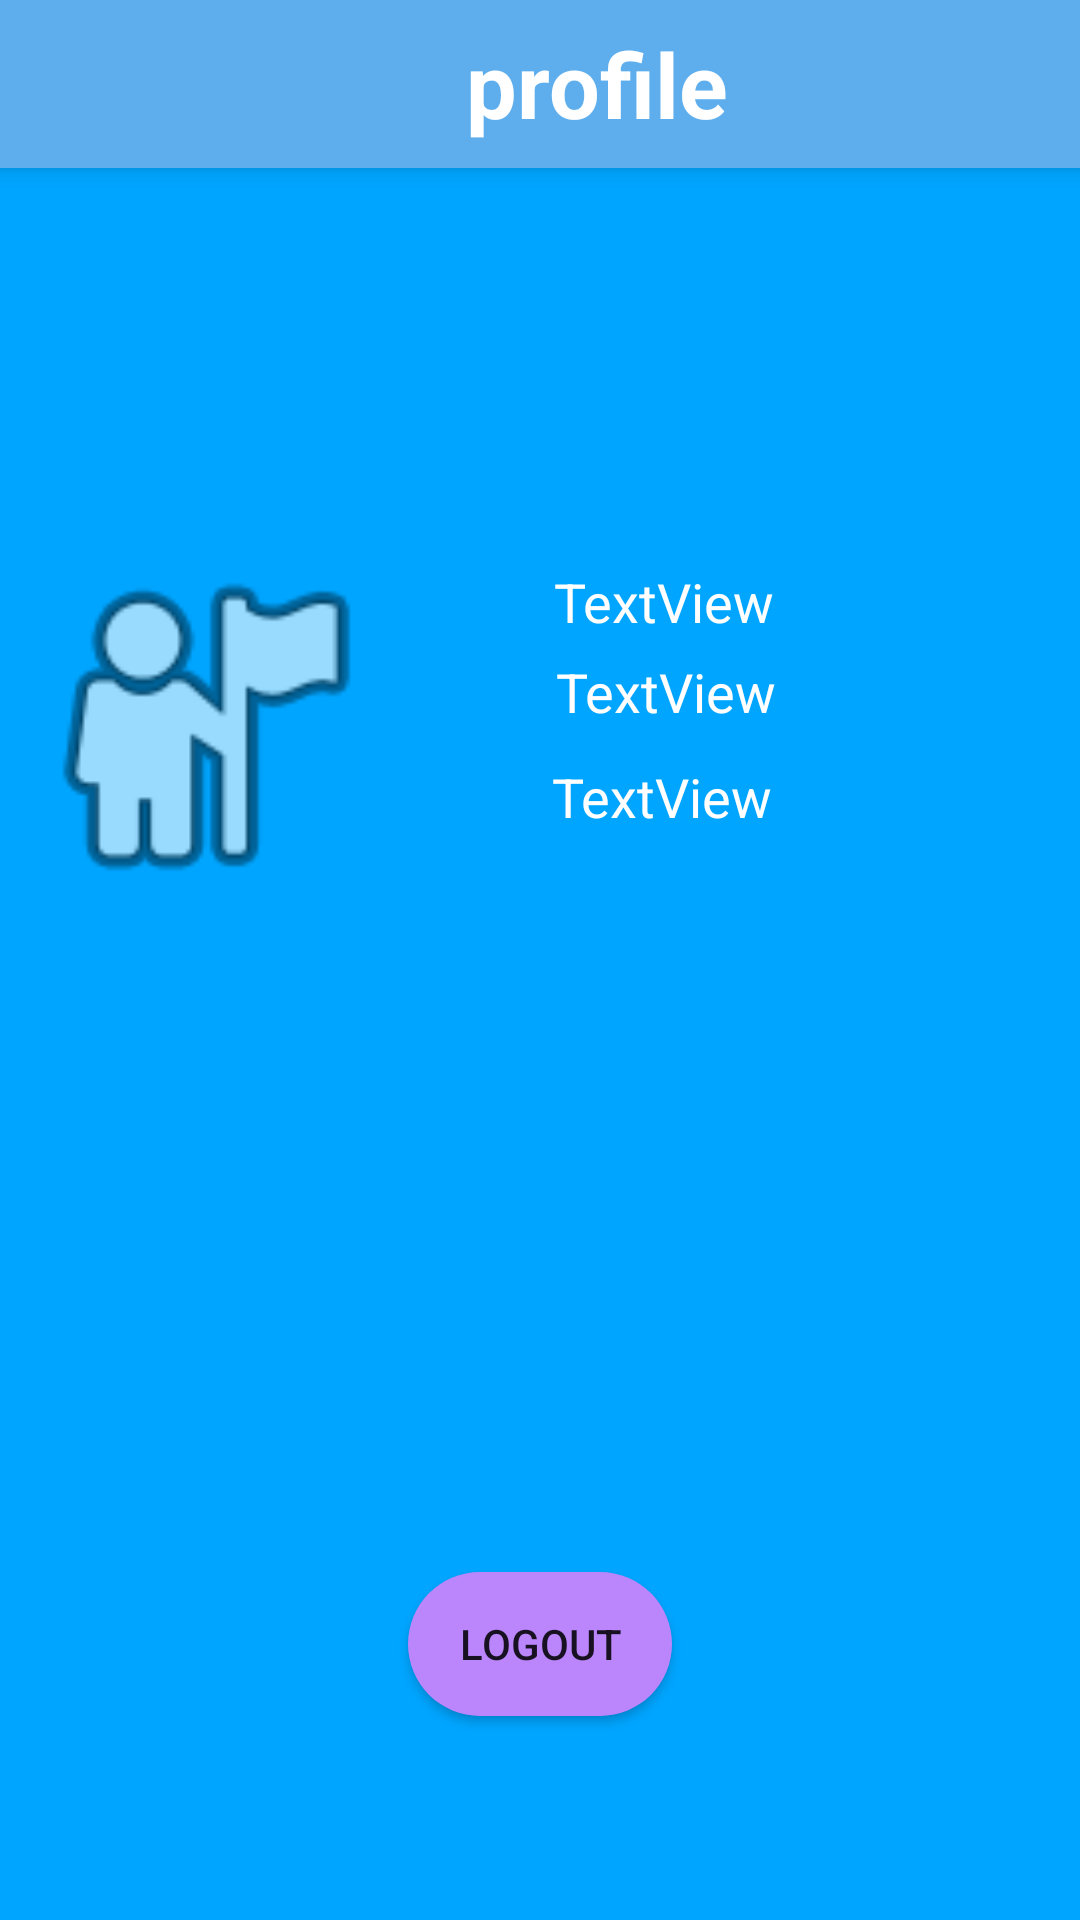

Where icons sit on this 1080 x 1920 app screen, as bbox(x1, y1, x2, y2):
myplaces: bbox(63, 584, 350, 870)
